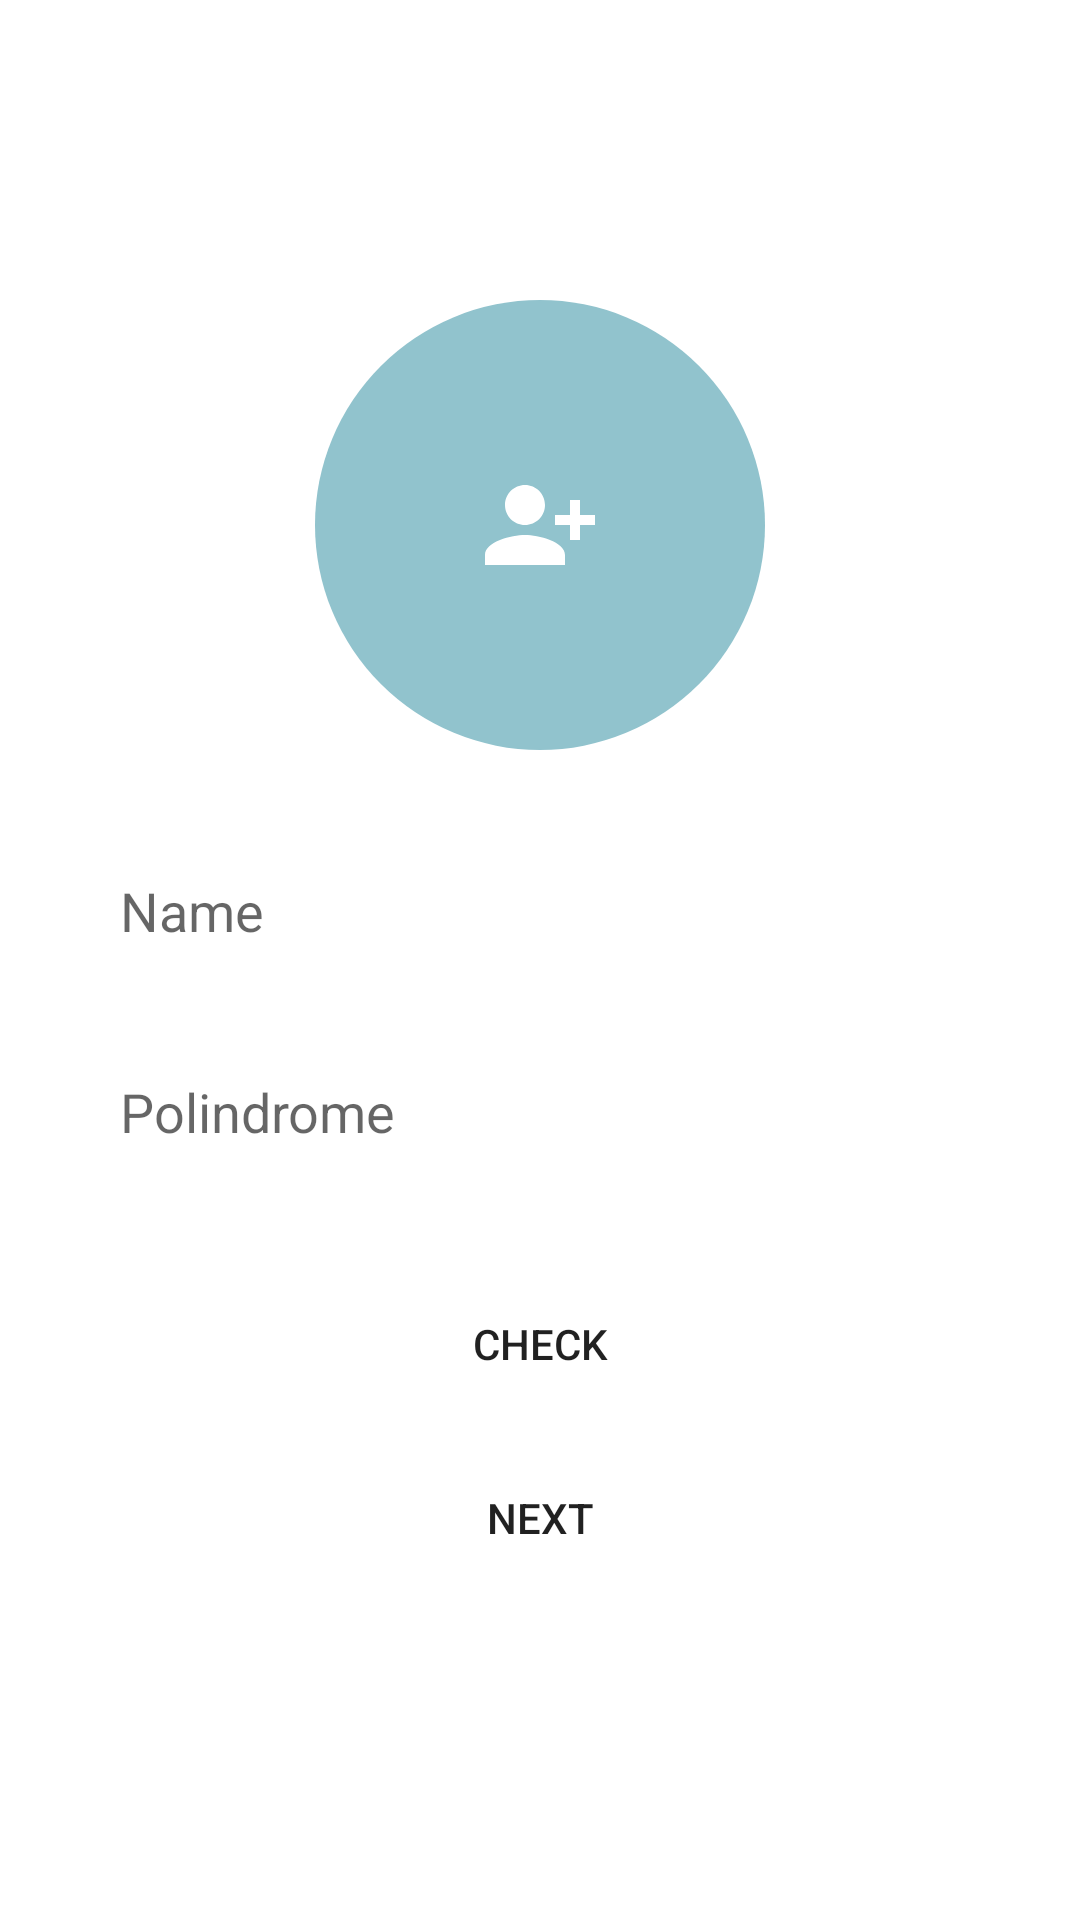

Icons on this 1080×1920 Android screen, each with the point to tap as (x,y):
person icon: (540,525)
